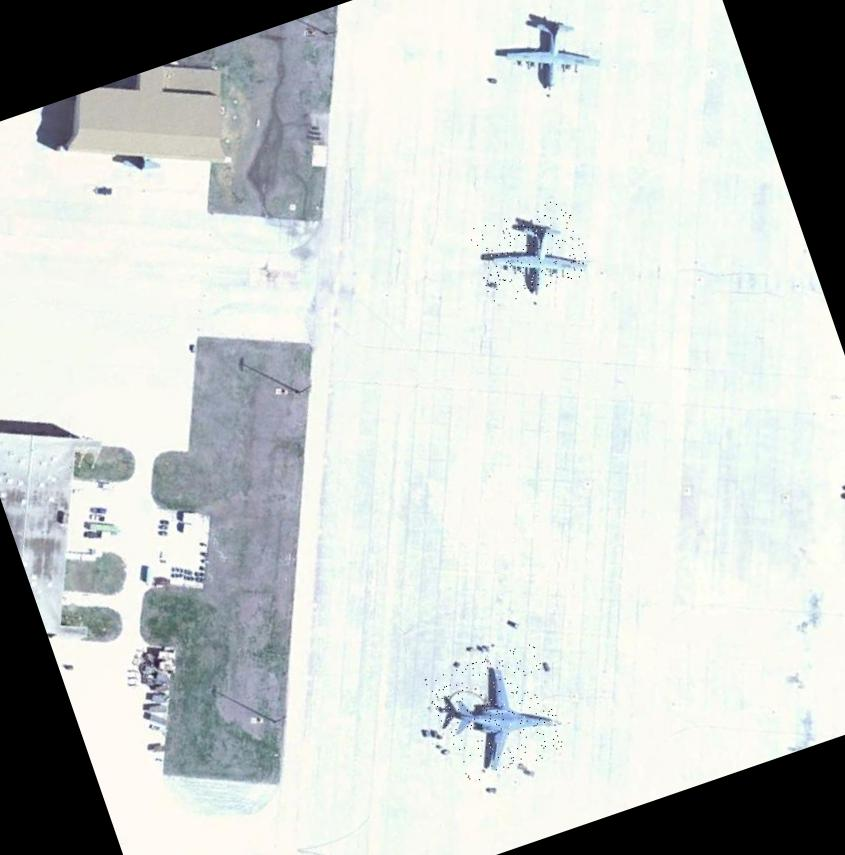A10: (423, 642, 571, 788)
A2: (481, 0, 607, 111), (466, 196, 593, 306)
